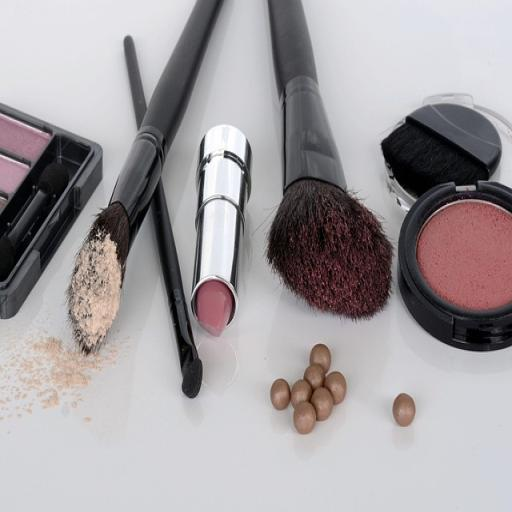lipstick: (192, 125, 251, 335)
